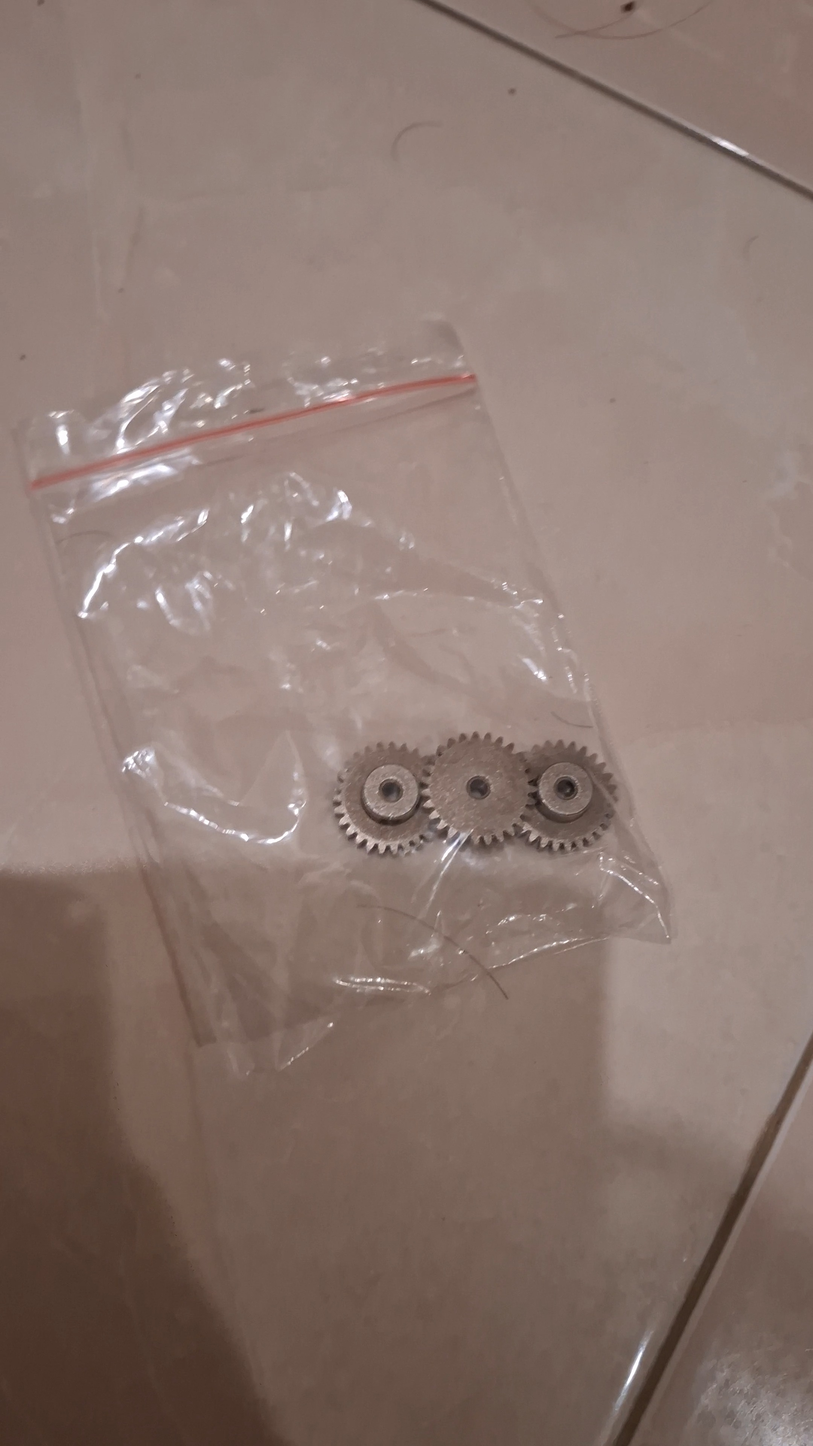spur gear: (329, 741, 445, 854), (504, 740, 621, 849), (423, 732, 531, 846)
